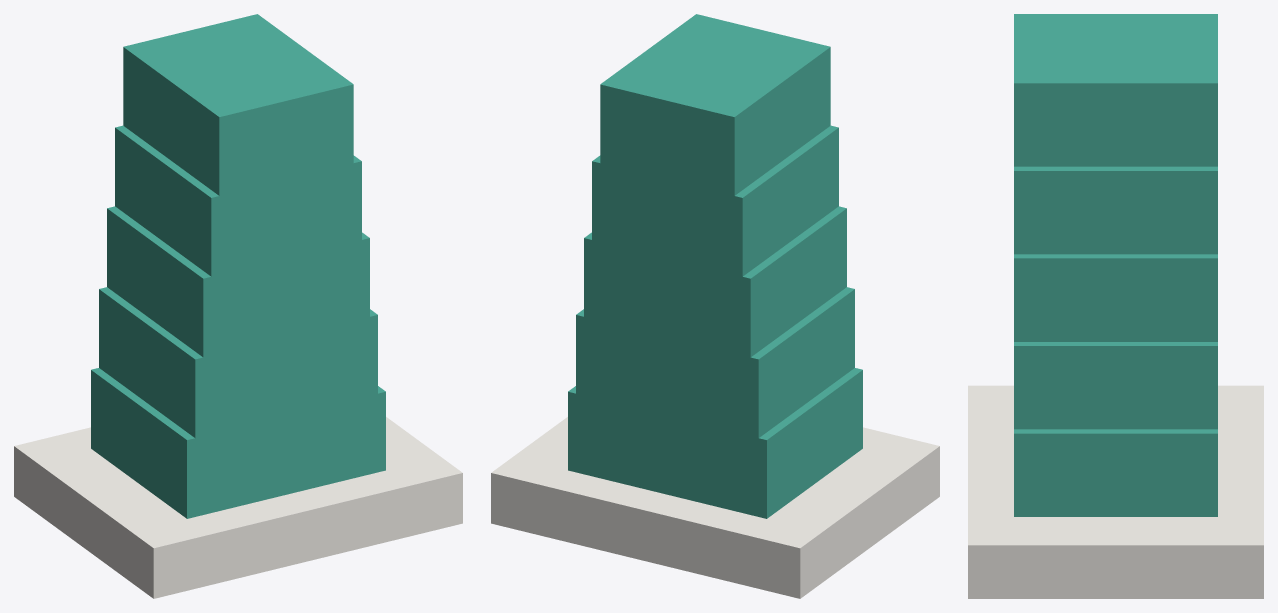
Rendered from message_board-lv5.glb.
3 views of the same model, side by side, from view 1: azimuth 30°, elevation 25°; view 2: azimuth 150°, elevation 25°; view 3: azimuth 270°, elevation 25° (orthographic). The views are drawn at different scales.
Visible parts, largest first — view 1: Base, Level5, Level1, Level2, Level3, Level4; view 2: Base, Level5, Level1, Level2, Level3, Level4; view 3: Base, Level5, Level4, Level1, Level2, Level3.
Part boxes in pixels (x1,y1,x2,y2): Base: (14,417,462,598); Level5: (123,14,353,195); Level1: (91,368,385,518); Level2: (99,287,377,438); Level3: (107,206,369,357); Level4: (115,125,361,276); Base: (491,417,939,598); Level5: (600,14,830,195); Level1: (568,368,862,518); Level2: (576,287,854,438); Level3: (584,206,846,357); Level4: (592,125,838,276); Base: (968,385,1263,598); Level5: (1014,14,1217,166); Level4: (1014,166,1217,254); Level1: (1014,429,1217,516); Level2: (1014,342,1217,429); Level3: (1014,254,1217,341).
Bounding box in the file's own units: 1.15 × 1.58 × 0.9.
